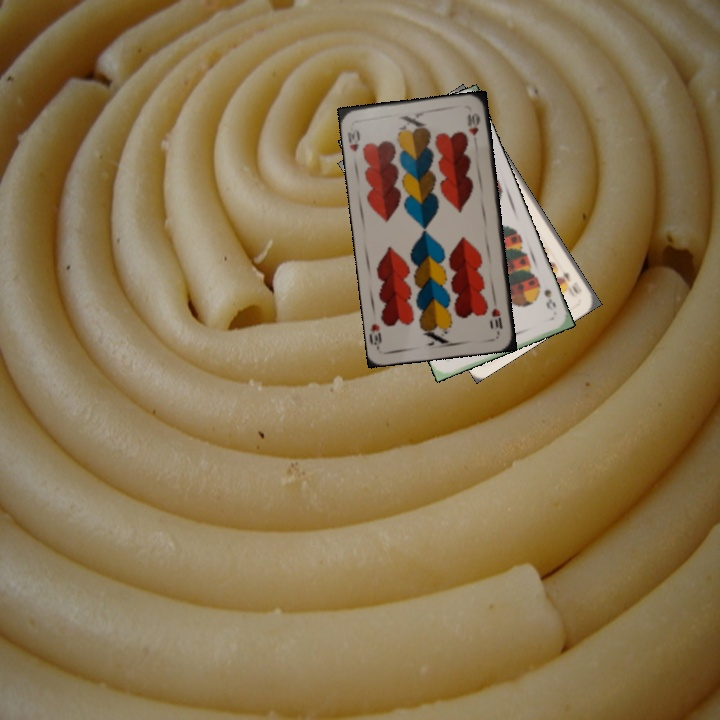E10: (557, 267, 584, 297)
H10: (344, 123, 363, 155), (488, 304, 505, 331)
S9: (533, 279, 559, 313)
